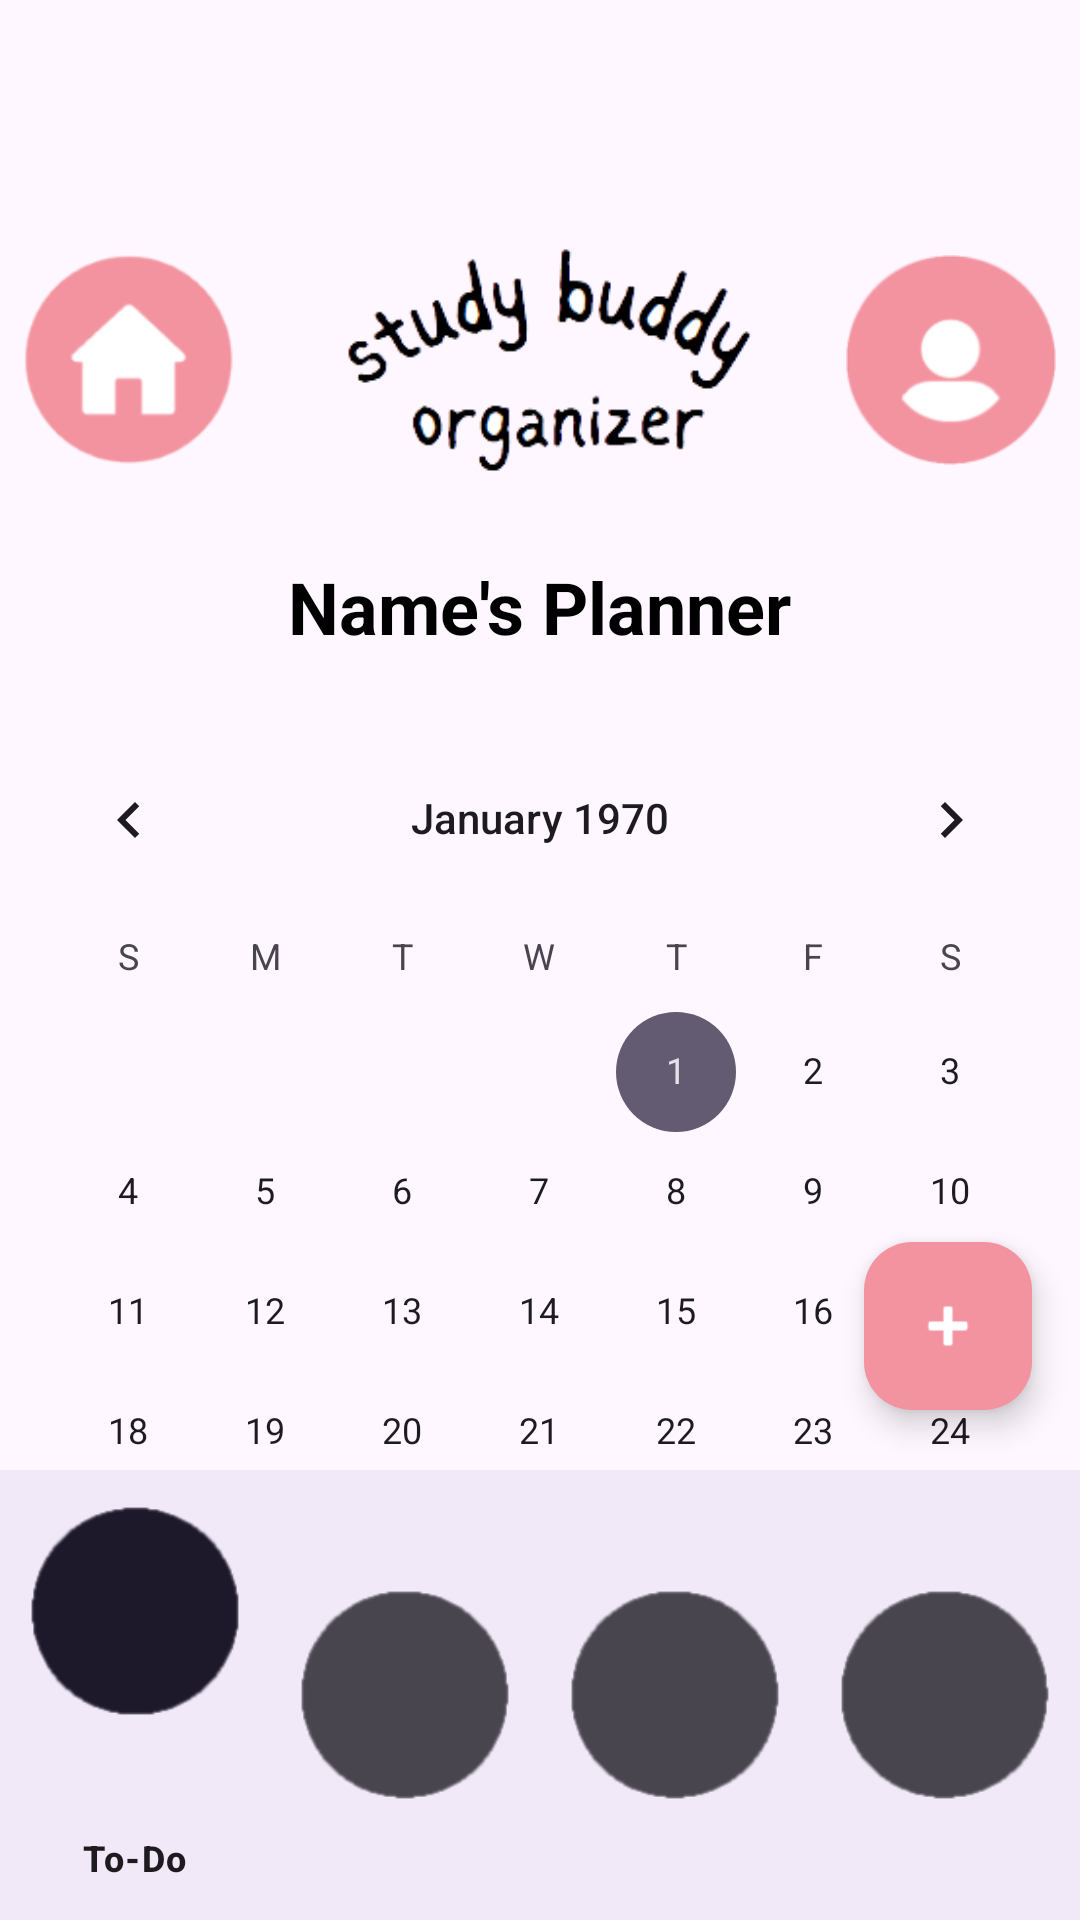

Screen size 1080x1920. Icon name, then its box in pixels as (left=x1, top=y1, right=x2, bottom=y2):
Add Event: (left=864, top=1242, right=1032, bottom=1410)
Home Button: (left=25, top=256, right=232, bottom=463)
Profile: (left=846, top=255, right=1056, bottom=465)
